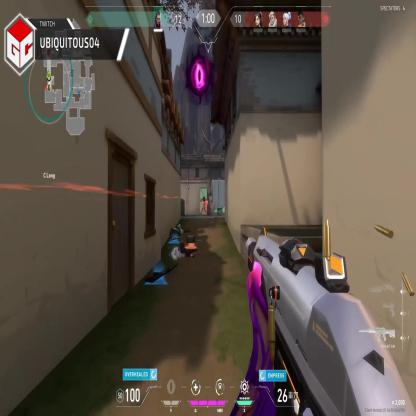enemy: (201, 198, 207, 216), (210, 200, 214, 216)
enemy_head: (202, 197, 206, 202), (210, 200, 212, 204)
